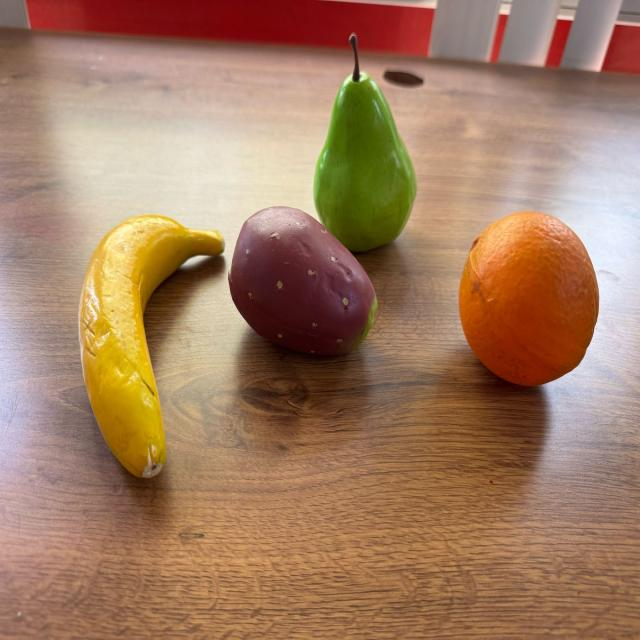banana: (78, 214, 224, 476)
orange: (455, 210, 599, 386)
pear: (314, 34, 418, 252)
tuna: (228, 204, 379, 356)
